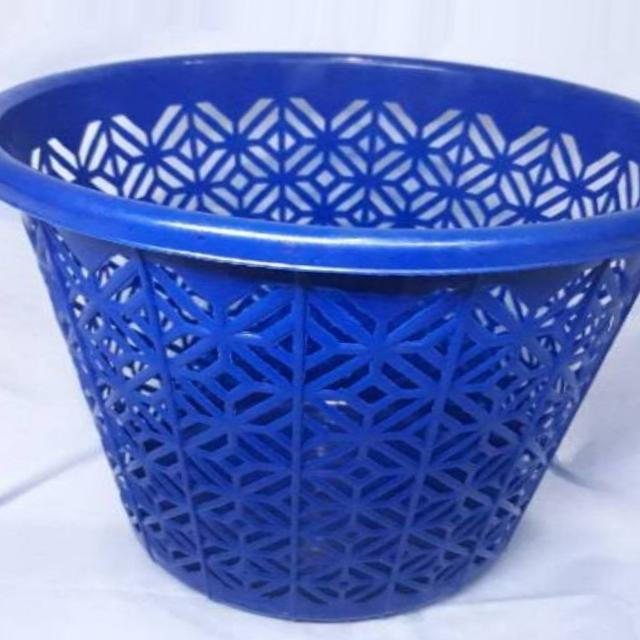Bote de Basura: (18, 68, 639, 613)
